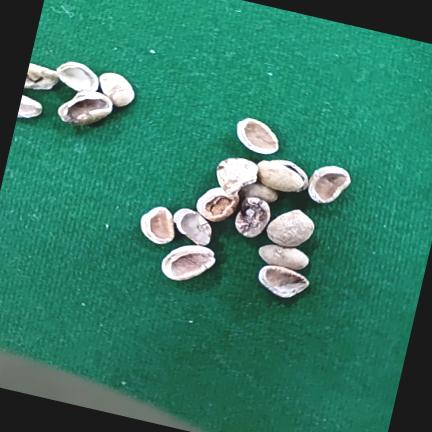shell: (161, 245, 216, 281), (58, 91, 113, 125), (267, 210, 314, 247), (258, 265, 309, 298), (308, 166, 351, 203), (217, 158, 258, 196), (237, 118, 279, 154), (196, 188, 239, 222), (235, 197, 270, 238), (257, 161, 303, 192), (175, 209, 212, 246), (259, 244, 309, 270), (140, 207, 175, 244), (56, 62, 99, 91), (99, 73, 135, 107), (271, 160, 309, 192), (24, 63, 59, 90), (239, 182, 278, 203), (17, 95, 42, 118)
